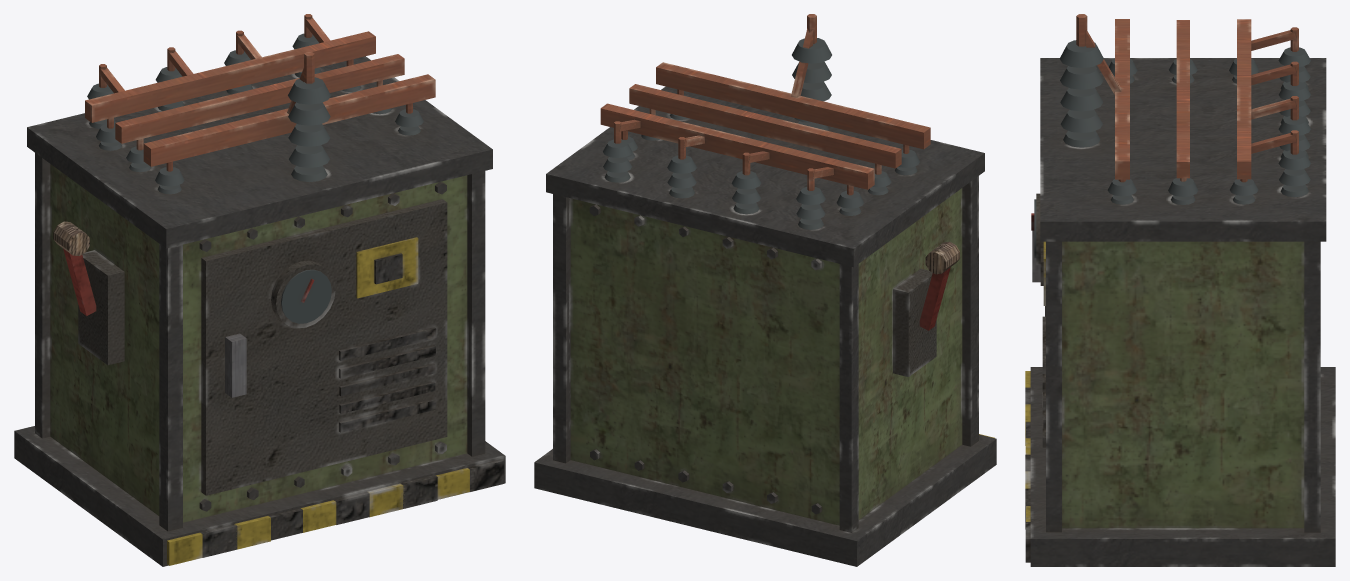
File: feBus_HD.fbx
3 views of the same model, side by side, from view 1: azimuth 30°, elevation 25°; view 2: azimuth 150°, elevation 25°; view 3: azimuth 270°, elevation 25° (orthographic). The views are drawn at different scales.
Parts seen in each view (by area): view 1: feBus_Base; view 2: feBus_Base; view 3: feBus_Base.
Part boxes in pixels (x1=…): feBus_Base: x1=14, y1=14, x2=505, y2=566; feBus_Base: x1=534, y1=14, x2=996, y2=566; feBus_Base: x1=1025, y1=14, x2=1335, y2=566.
Size of the model in its own units: 0.8655 by 1.01 by 0.6121.
1 material, 1 textured.
